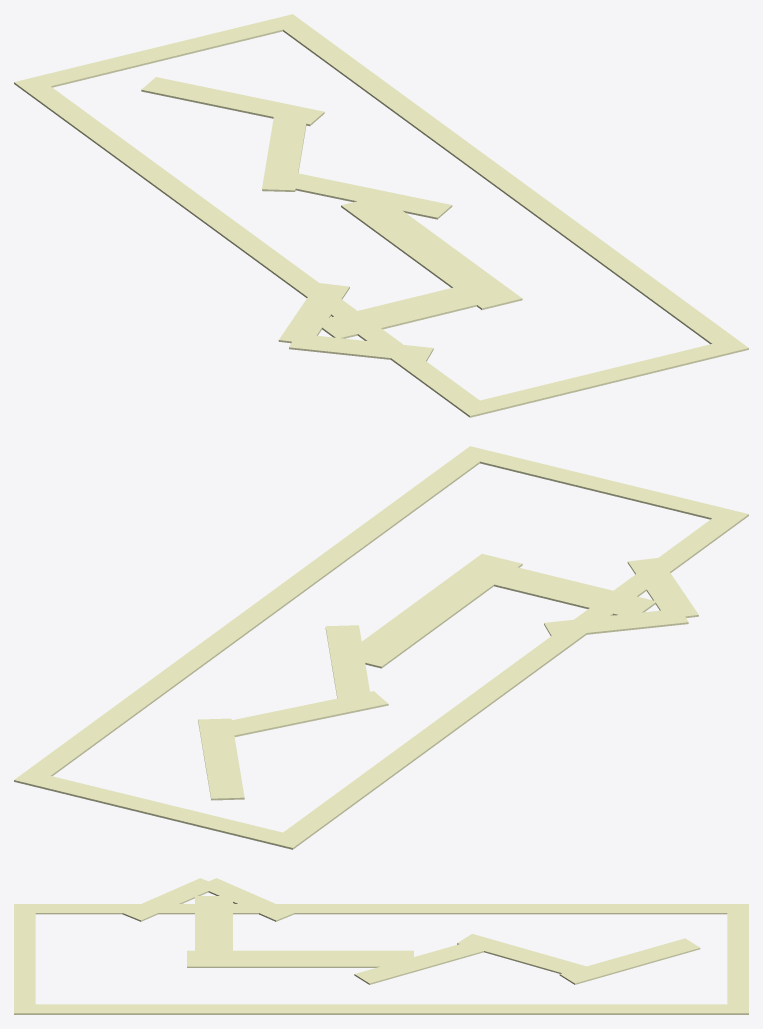
File: marking_separator_arrow_left_white.glb
The picture shows the model from 3 angles, top to bottom: view 1: azimuth 30°, elevation 25°; view 2: azimuth 150°, elevation 25°; view 3: azimuth 270°, elevation 25°; orthographic projection. The views are drawn at different scales.
Parts seen in each view (by area): view 1: separator_arrow_left_right, separator_arrow_left_left, separator_arrow_left_arrow_shaft, separator_arrow_left_bottom, separator_arrow_left_top, separator_arrow_left_arrow_arm, separator_arrow_left_diag_0, separator_arrow_left_diag_2, separator_arrow_left_diag_1, separator_arrow_left_arrow_head_lower, separator_arrow_left_arrow_head_upper; view 2: separator_arrow_left_right, separator_arrow_left_left, separator_arrow_left_arrow_shaft, separator_arrow_left_top, separator_arrow_left_bottom, separator_arrow_left_arrow_arm, separator_arrow_left_diag_1, separator_arrow_left_diag_2, separator_arrow_left_diag_0, separator_arrow_left_arrow_head_upper, separator_arrow_left_arrow_head_lower; view 3: separator_arrow_left_right, separator_arrow_left_left, separator_arrow_left_arrow_shaft, separator_arrow_left_top, separator_arrow_left_bottom, separator_arrow_left_arrow_arm, separator_arrow_left_diag_2, separator_arrow_left_diag_0, separator_arrow_left_diag_1, separator_arrow_left_arrow_head_upper, separator_arrow_left_arrow_head_lower.
Part boxes in pixels (bbox=[...]): separator_arrow_left_right: bbox=[283, 24, 735, 344]; separator_arrow_left_left: bbox=[27, 86, 479, 407]; separator_arrow_left_arrow_shaft: bbox=[341, 201, 522, 309]; separator_arrow_left_bottom: bbox=[456, 338, 748, 417]; separator_arrow_left_top: bbox=[14, 14, 305, 93]; separator_arrow_left_arrow_arm: bbox=[314, 285, 517, 338]; separator_arrow_left_diag_0: bbox=[141, 77, 324, 126]; separator_arrow_left_diag_2: bbox=[273, 170, 452, 219]; separator_arrow_left_diag_1: bbox=[262, 110, 307, 191]; separator_arrow_left_arrow_head_lower: bbox=[278, 283, 349, 343]; separator_arrow_left_arrow_head_upper: bbox=[289, 333, 433, 361]; separator_arrow_left_right: bbox=[27, 456, 479, 776]; separator_arrow_left_left: bbox=[283, 518, 735, 839]; separator_arrow_left_arrow_shaft: bbox=[343, 554, 522, 668]; separator_arrow_left_top: bbox=[14, 770, 306, 849]; separator_arrow_left_bottom: bbox=[457, 446, 748, 525]; separator_arrow_left_arrow_arm: bbox=[454, 557, 655, 618]; separator_arrow_left_diag_1: bbox=[205, 691, 388, 738]; separator_arrow_left_diag_2: bbox=[325, 625, 371, 704]; separator_arrow_left_diag_0: bbox=[198, 718, 244, 800]; separator_arrow_left_arrow_head_upper: bbox=[627, 558, 698, 618]; separator_arrow_left_arrow_head_lower: bbox=[544, 610, 688, 635]; separator_arrow_left_right: bbox=[35, 1004, 727, 1014]; separator_arrow_left_left: bbox=[35, 904, 727, 914]; separator_arrow_left_arrow_shaft: bbox=[187, 950, 413, 967]; separator_arrow_left_top: bbox=[727, 904, 748, 1014]; separator_arrow_left_bottom: bbox=[14, 904, 35, 1014]; separator_arrow_left_arrow_arm: bbox=[195, 896, 232, 967]; separator_arrow_left_diag_2: bbox=[354, 938, 494, 984]; separator_arrow_left_diag_0: bbox=[559, 938, 700, 984]; separator_arrow_left_diag_1: bbox=[457, 933, 597, 978]; separator_arrow_left_arrow_head_upper: bbox=[122, 878, 218, 921]; separator_arrow_left_arrow_head_lower: bbox=[200, 878, 294, 921].
Bounding box in the file's own units: 1.19 × 0.006 × 2.72.
